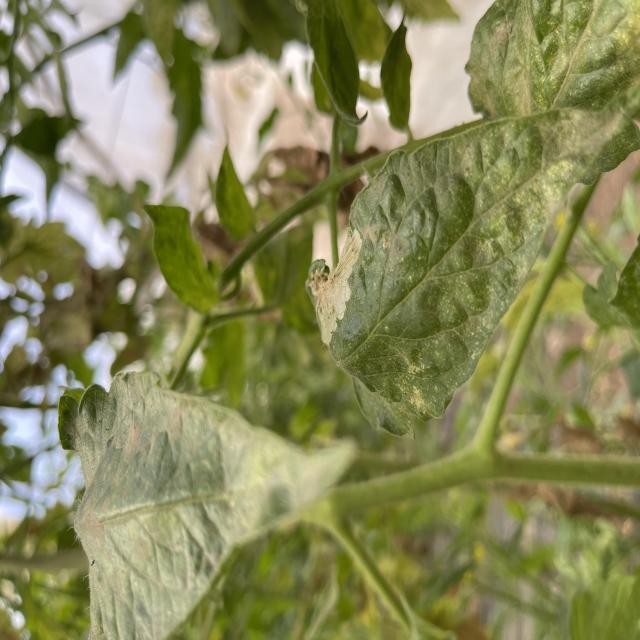Tuta absoluta: (298, 225, 363, 348)
